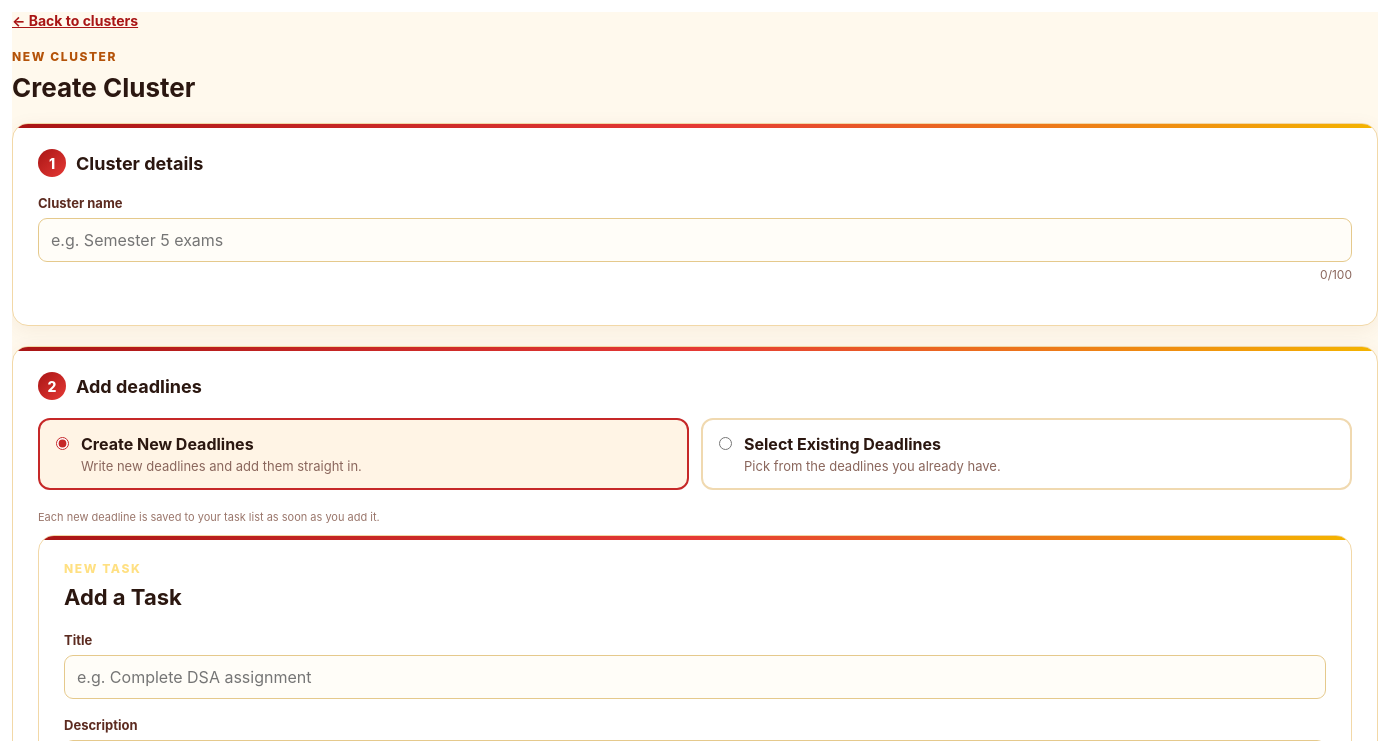
Test: Create Cluster: existing deadlines › keeps the name and selection when switching between the two options
In the field labelled "Cluster name": (695, 240) top-left (38, 218), bottom-right (1352, 262), type "Keep me"
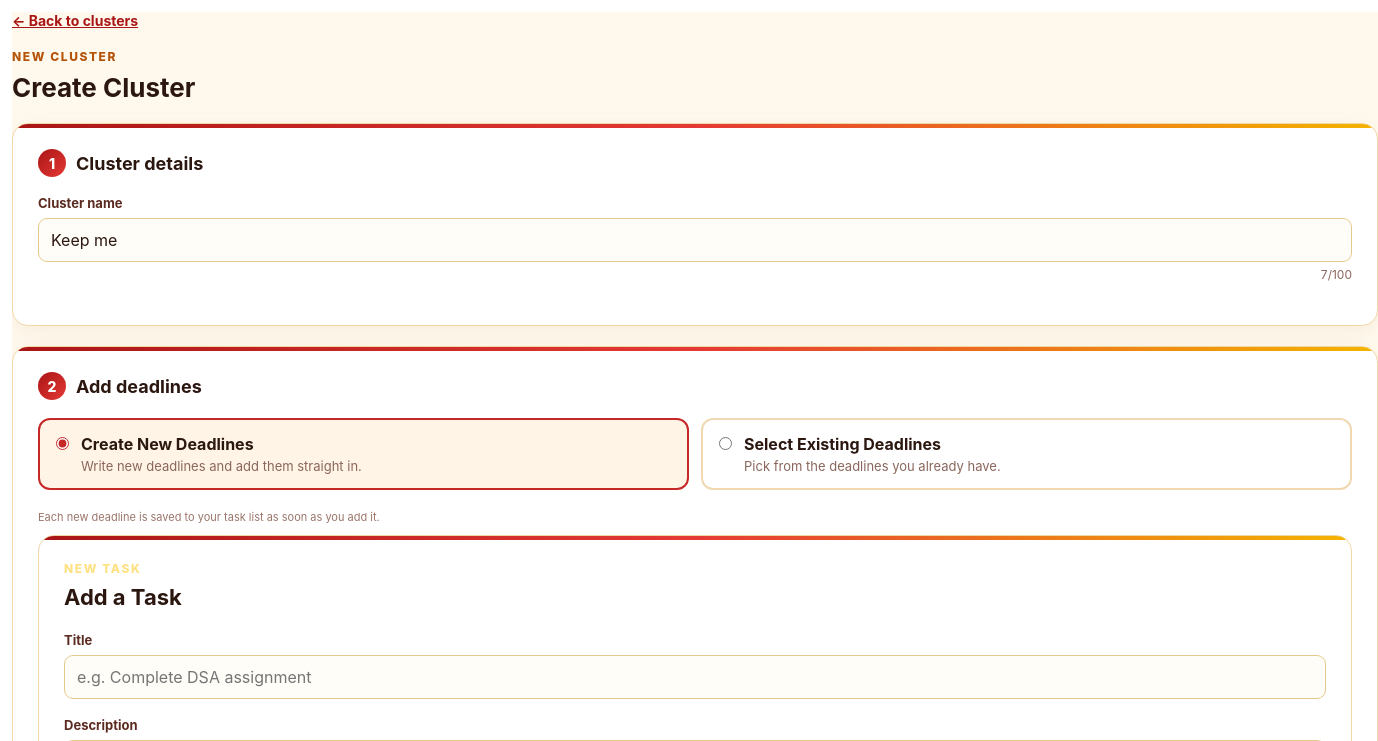
Click the radio button labelled "Select Existing Deadlines": (726, 444) top-left (719, 437), bottom-right (732, 450)
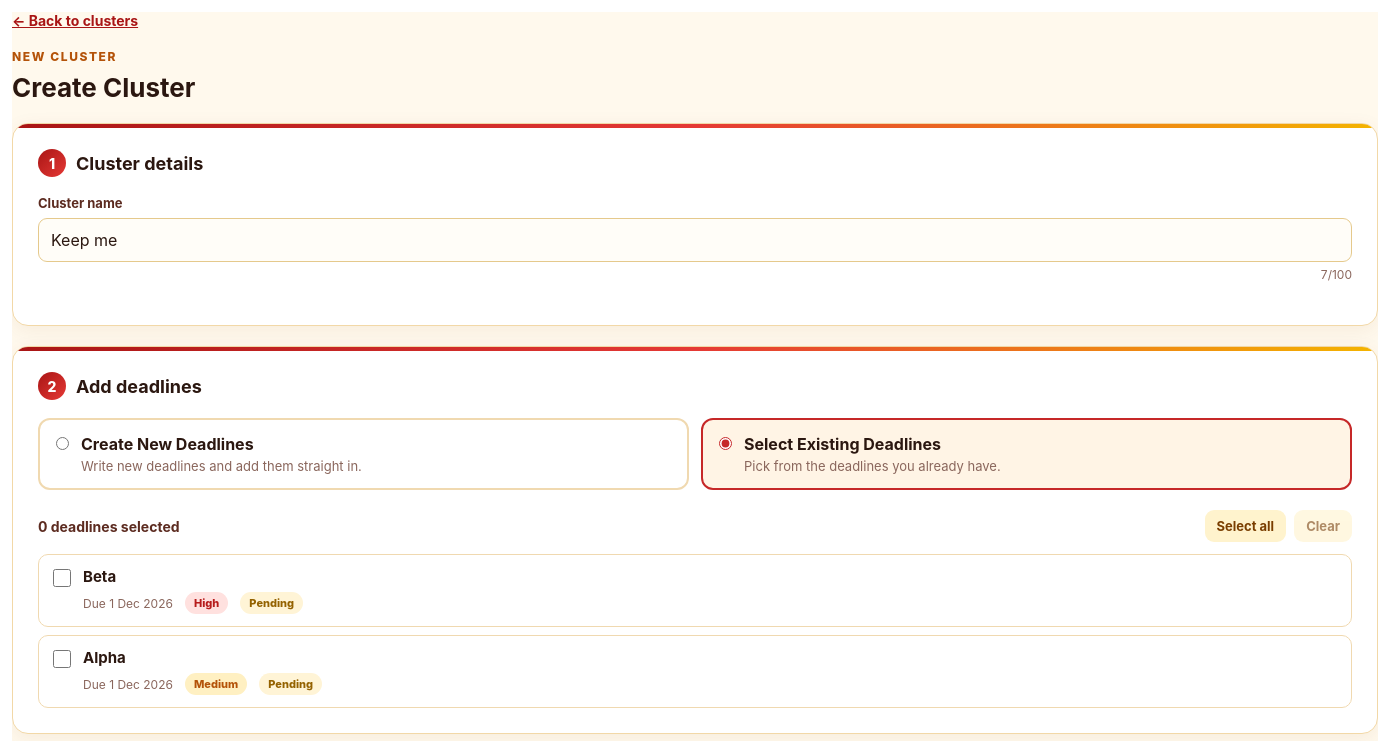
Click the checkbox named "Select Alpha": (62, 659) top-left (53, 650), bottom-right (71, 668)
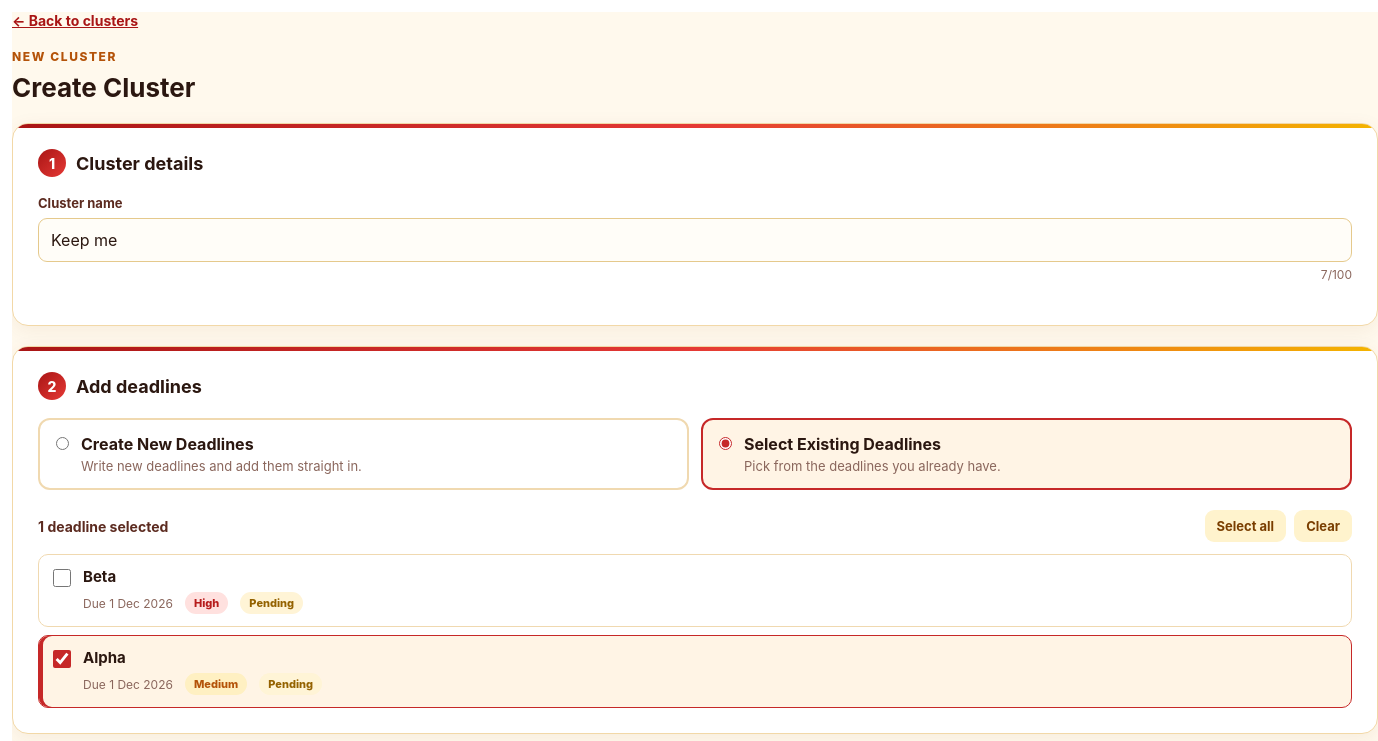
Click the radio button labelled "Create New Deadlines": (62, 444) top-left (56, 437), bottom-right (69, 450)
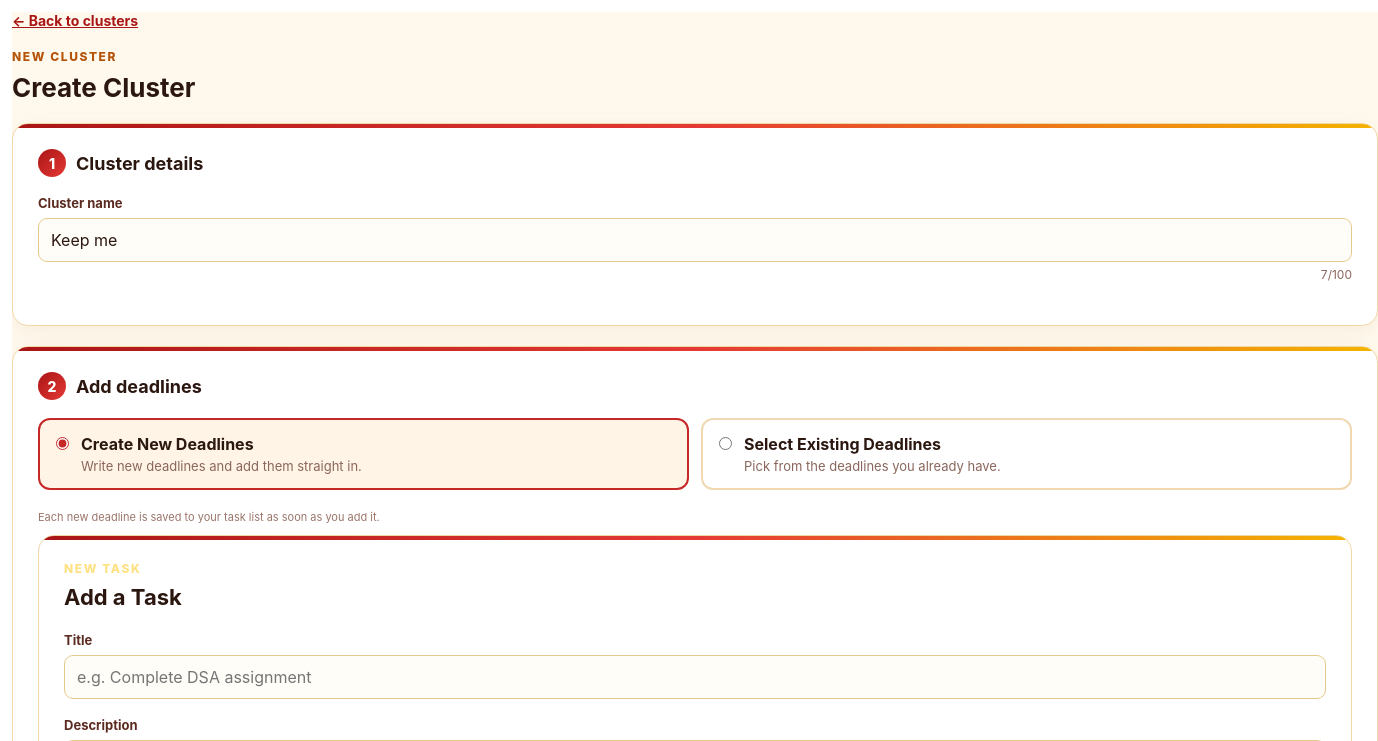
Expected: the field with placeholder "e.g. Complete DSA assignment" is shown, top-left (64, 655), bottom-right (1326, 699)
Click the radio button labelled "Select Existing Deadlines": (726, 444) top-left (719, 437), bottom-right (732, 450)
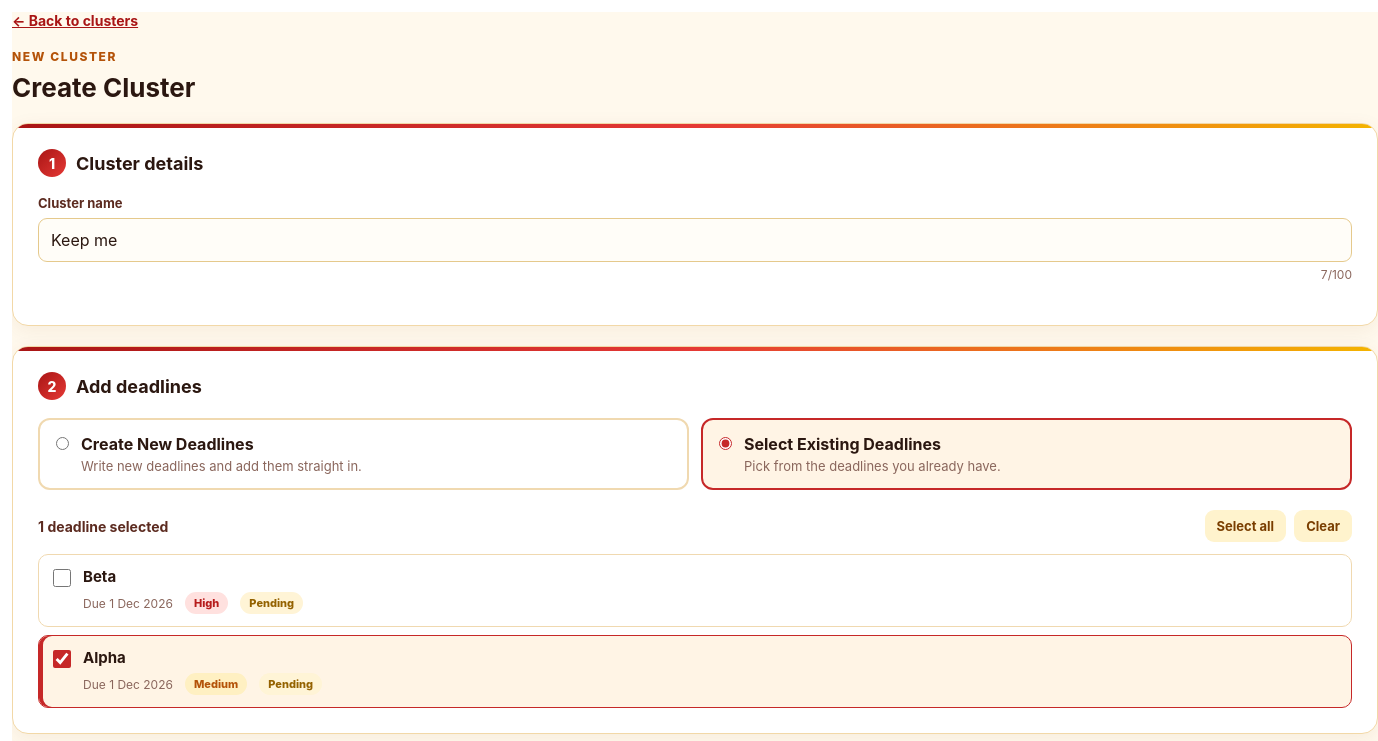
Expected: the checkbox named "Select Alpha" is checked, top-left (53, 650), bottom-right (71, 668)
